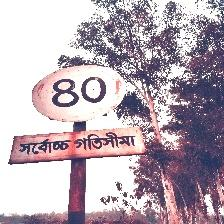Speed-limit: (10, 65, 142, 166)
